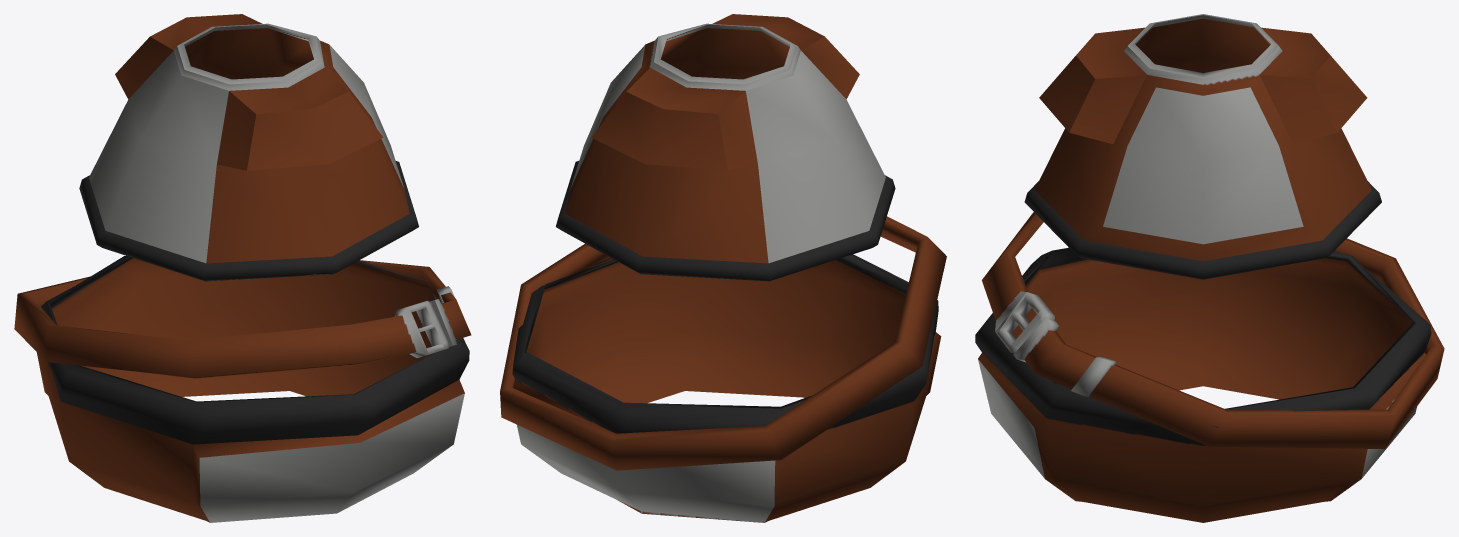
Rendered from BodyWarriror.fbx.
3 views of the same model, side by side, from view 1: azimuth 30°, elevation 25°; view 2: azimuth 150°, elevation 25°; view 3: azimuth 270°, elevation 25° (orthographic).
Visible parts, largest first — view 1: Body Warrior; view 2: Body Warrior; view 3: Body Warrior.
Boxes of the visible parts, x1,y1,x2,y2 form: Body Warrior: (14,14,471,522); Body Warrior: (500,14,946,522); Body Warrior: (975,14,1444,522).
Bounding box in the file's own units: 2.56 × 2.48 × 2.58.
